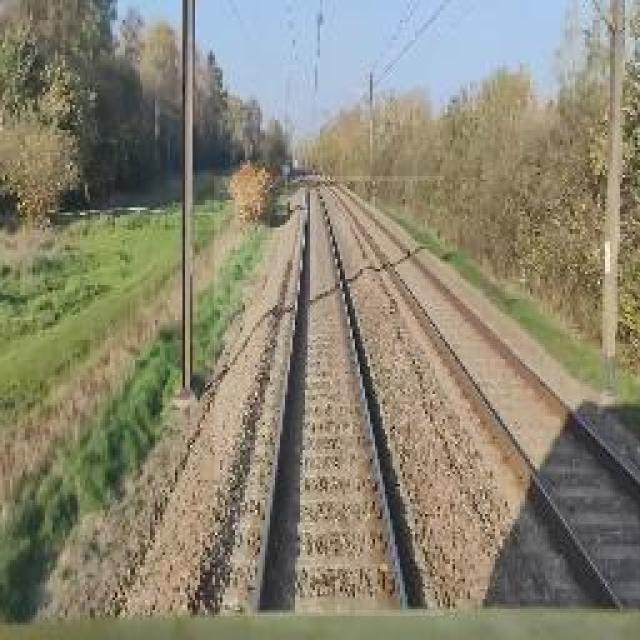rail: (318, 182, 640, 611), (216, 177, 445, 617)
